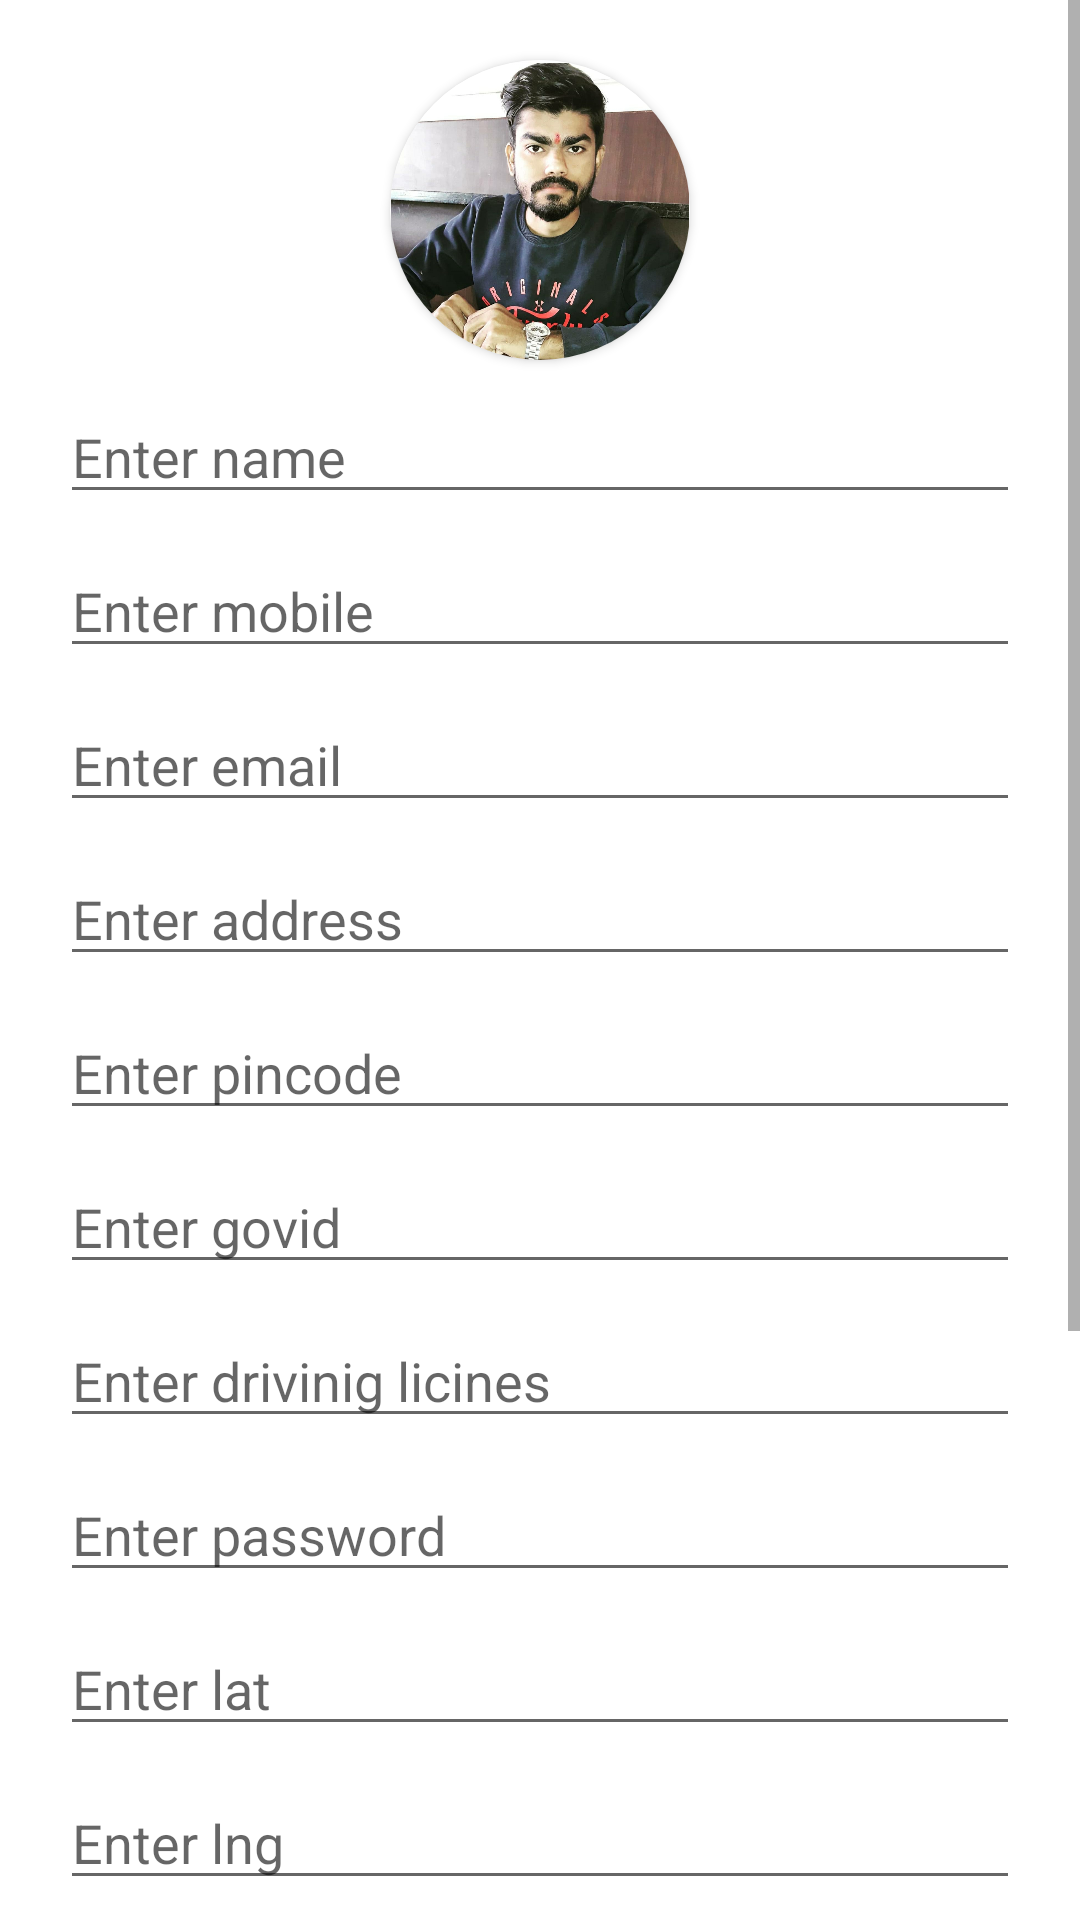

Icon bounding boxes for this 1080×1920 phone screenshot, format (x1, y1, x2, y2):
profile: (391, 63, 689, 360)
